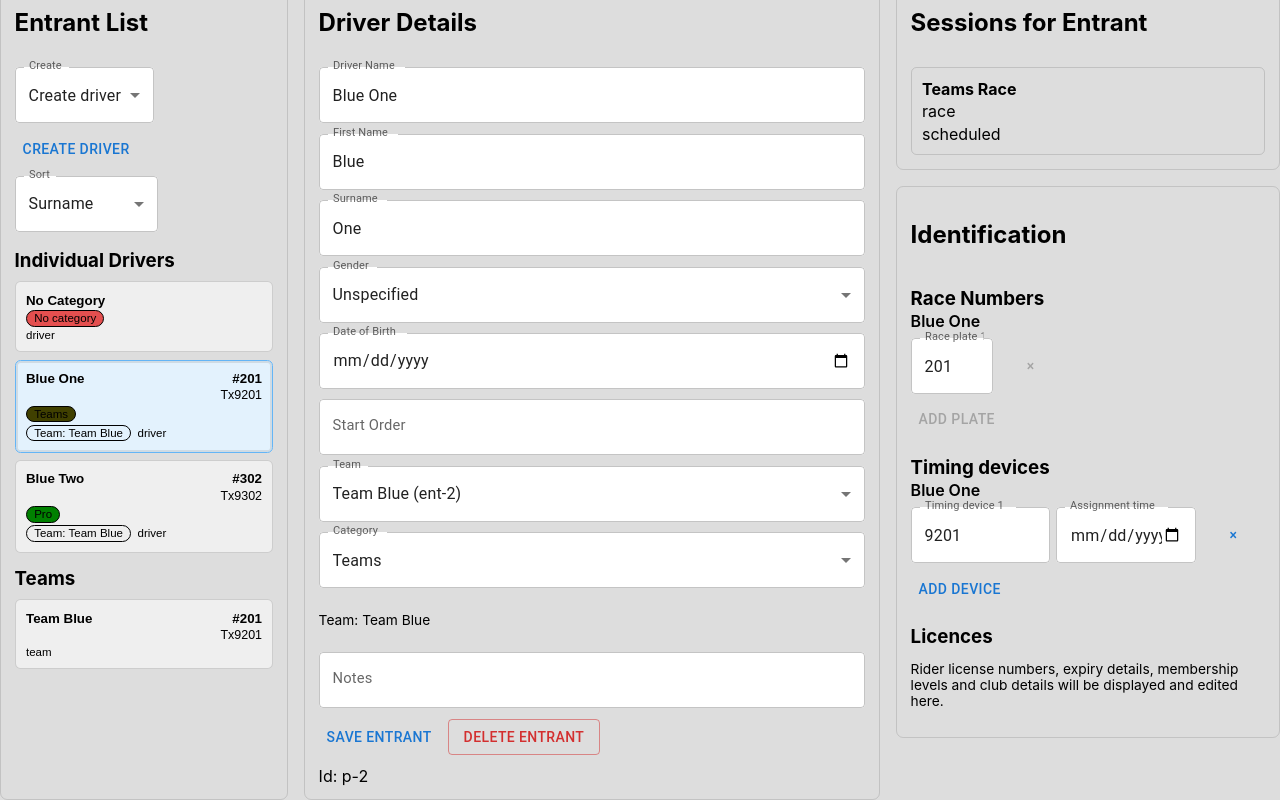
Test case: EntrantsPage integration › updates Identification when selecting individual entrants in a mixed team event
(page scrolled)
Expected: the field named "Entrant Name" holds "Blue One", [319,67,865,123]
Expected: the field named "Race plate Blue One 1" is shown, [911,338,993,394]
Click the button "Blue Two #302 Tx9302 Pro Team: Team Blue driver" at (144, 506), box [15,460,273,553]
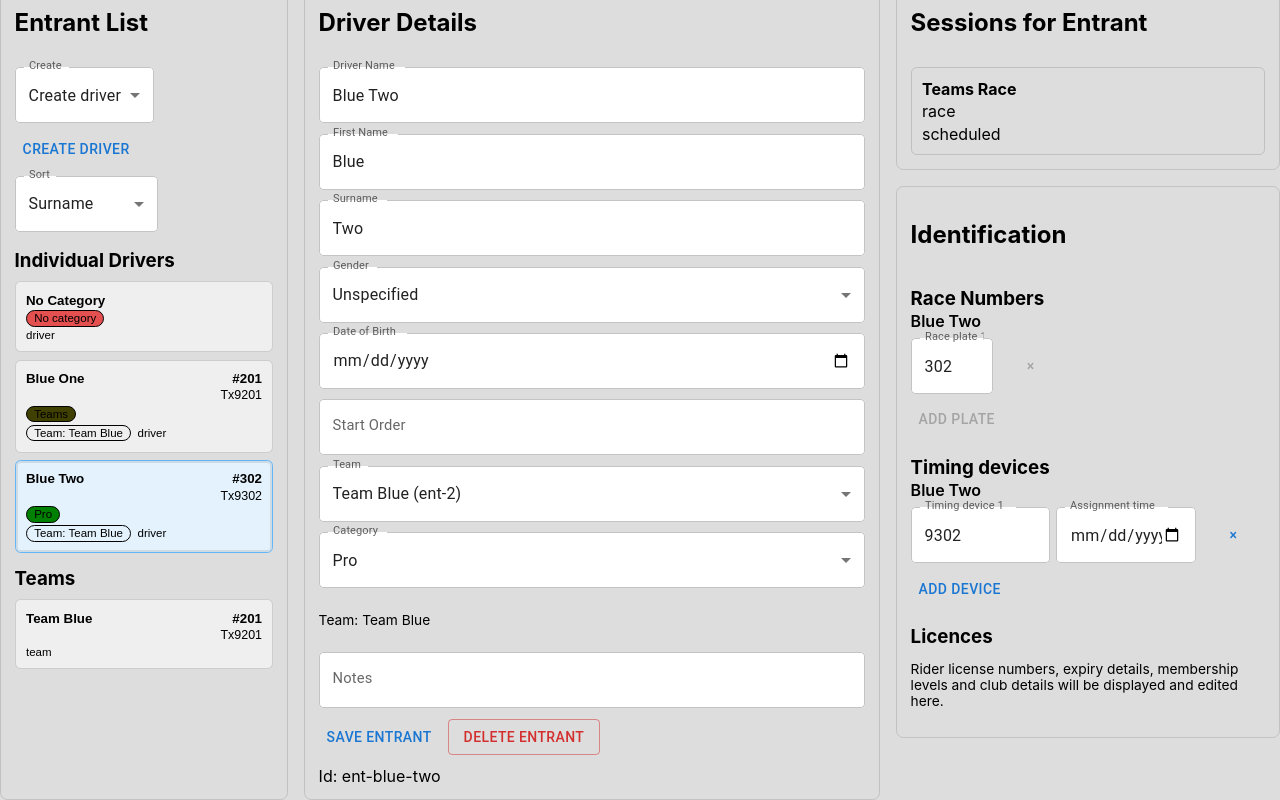
Result: the field named "Entrant Name" holds "Blue Two" at [319,67,865,123]
Result: the field named "Race plate Blue Two 1" is shown at [911,338,993,394]
